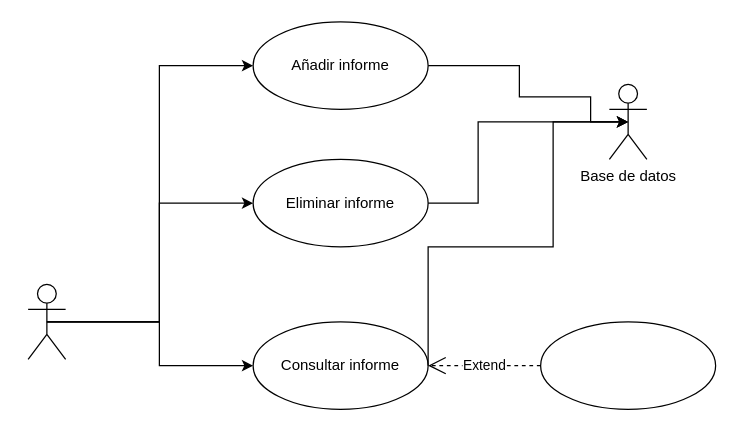
The diagram is 738 pixels wide and 431 high, and some of its shapes have lost their labels. The centre of each missing label's shape, as x and y in pixels:
Modificar informe: pixel 627 365
Usuario: pixel 46 321
